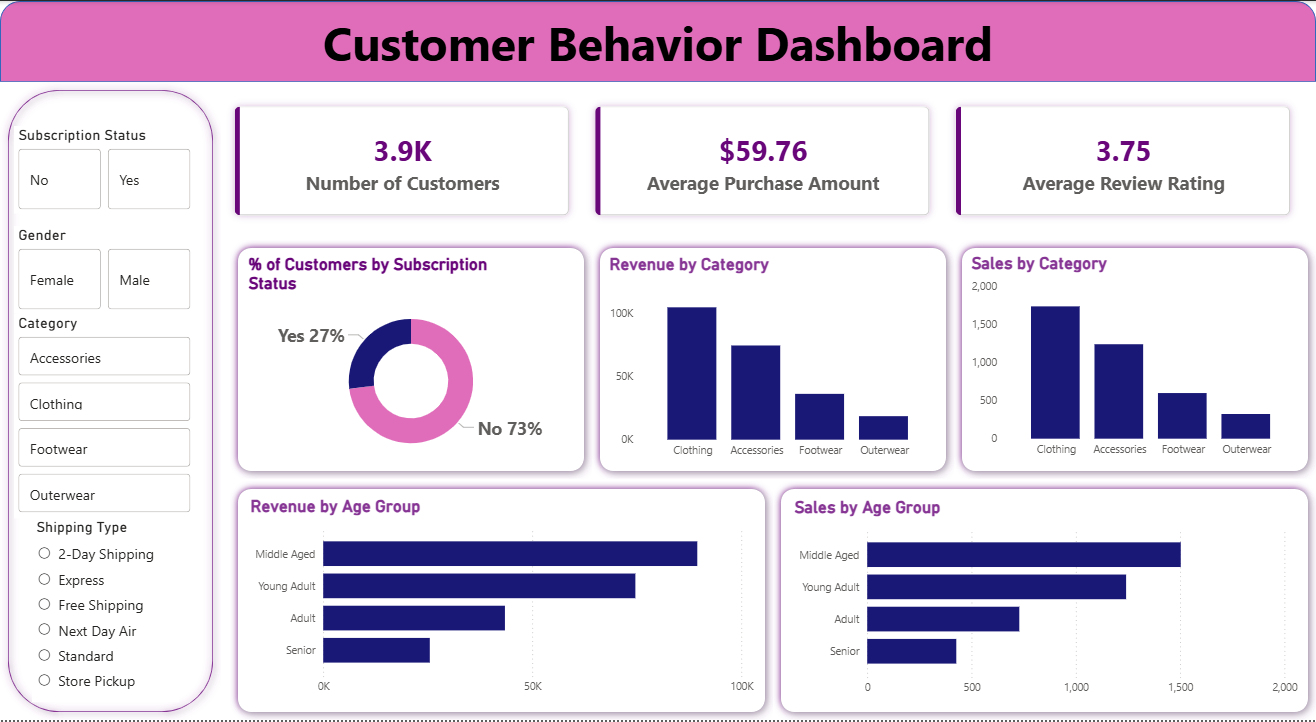

Layout of this report page (visuals, bound fields, positions):
{"tool":"powerbi","page":{"name":"Page 1","canvas":[1500,820],"ordinal":0},"visuals":[{"type":"cardVisual","fields":{"Data":["customer_shopping_behavior.Number of Customers","customer_shopping_behavior.Average Purchase Amount","customer_shopping_behavior.Average Review Rating"]},"box":[239.4,92.3,1260.6,180.1],"z":0},{"type":"shape","box":[0,0,1500,92.3],"z":1000},{"type":"textbox","box":[0,5.7,1500,82.1],"z":2000},{"type":"shape","box":[262.2,272.4,412.6,272.4],"z":3000},{"type":"donutChart","title":"% of Customers by Subscription Status","fields":{"Category":["customer_shopping_behavior.Subscription Status"],"Y":["CountNonNull(customer_shopping_behavior.Customer ID)"]},"box":[278.1,288.4,380.7,241.6],"z":4000},{"type":"shape","box":[674.8,272.4,412.6,272.4],"z":5000},{"type":"shape","box":[1087.4,272.4,412.6,272.4],"z":6000},{"type":"clusteredColumnChart","title":"Revenue by Category","fields":{"Y":["Sum(customer_shopping_behavior.Purchase Amount (USD))"],"Category":["customer_shopping_behavior.Category"]},"box":[689.6,288.4,381.8,241.6],"z":7000},{"type":"clusteredColumnChart","title":"Sales by Category","fields":{"Y":["CountNonNull(customer_shopping_behavior.Customer ID)"],"Category":["customer_shopping_behavior.Category"]},"box":[1102.2,287.2,381.8,241.6],"z":8000},{"type":"shape","box":[0,92.3,251.9,727.2],"z":9000},{"type":"advancedSlicerVisual","fields":{"Values":["customer_shopping_behavior.Subscription Status"]},"box":[16,142.5,206.3,100.3],"z":10000},{"type":"advancedSlicerVisual","fields":{"Values":["customer_shopping_behavior.Category"]},"box":[16,356.8,206.3,232.5],"z":11000},{"type":"listSlicer","fields":{"Values":["customer_shopping_behavior.Shipping Type"]},"box":[36.5,589.3,167.6,209.7],"z":12000},{"type":"advancedSlicerVisual","fields":{"Values":["customer_shopping_behavior.Gender"]},"box":[16,256.5,206.3,100.3],"z":13000},{"type":"shape","box":[262.2,547.1,618.9,272.4],"z":14000},{"type":"clusteredBarChart","title":"Revenue by Age Group","fields":{"Y":["Sum(customer_shopping_behavior.Purchase Amount (USD))"],"Category":["customer_shopping_behavior.Age_Group"]},"box":[280.4,564.2,583.6,234.8],"z":15000},{"type":"shape","box":[881.1,547.1,618.9,272.4],"z":16000},{"type":"clusteredBarChart","title":"Sales by Age Group","fields":{"Y":["CountNonNull(customer_shopping_behavior.Customer ID)"],"Category":["customer_shopping_behavior.Age_Group"]},"box":[900.5,565.3,583.6,234.8],"z":16001}]}

Visuals, with their boxes in screenshot pixels (x1, y1, x2, y2), scaled from the page's 1500x820 canvas onto the 1316x722 screenshot:
cardVisual - customer_shopping_behavior.Number of Customers x customer_shopping_behavior.Average Purchase Amount: [210,81,1315,240]
shape: [0,0,1315,81]
textbox: [0,5,1315,77]
shape: [230,240,592,480]
"% of Customers by Subscription Status" donutChart: [244,254,578,467]
shape: [592,240,954,480]
shape: [954,240,1315,480]
"Revenue by Category" clusteredColumnChart: [605,254,940,467]
"Sales by Category" clusteredColumnChart: [967,253,1302,466]
shape: [0,81,221,721]
advancedSlicerVisual - customer_shopping_behavior.Subscription Status: [14,125,195,214]
advancedSlicerVisual - customer_shopping_behavior.Category: [14,314,195,519]
listSlicer - customer_shopping_behavior.Shipping Type: [32,519,179,704]
advancedSlicerVisual - customer_shopping_behavior.Gender: [14,226,195,314]
shape: [230,482,773,721]
"Revenue by Age Group" clusteredBarChart: [246,497,758,704]
shape: [773,482,1315,721]
"Sales by Age Group" clusteredBarChart: [790,498,1302,704]
